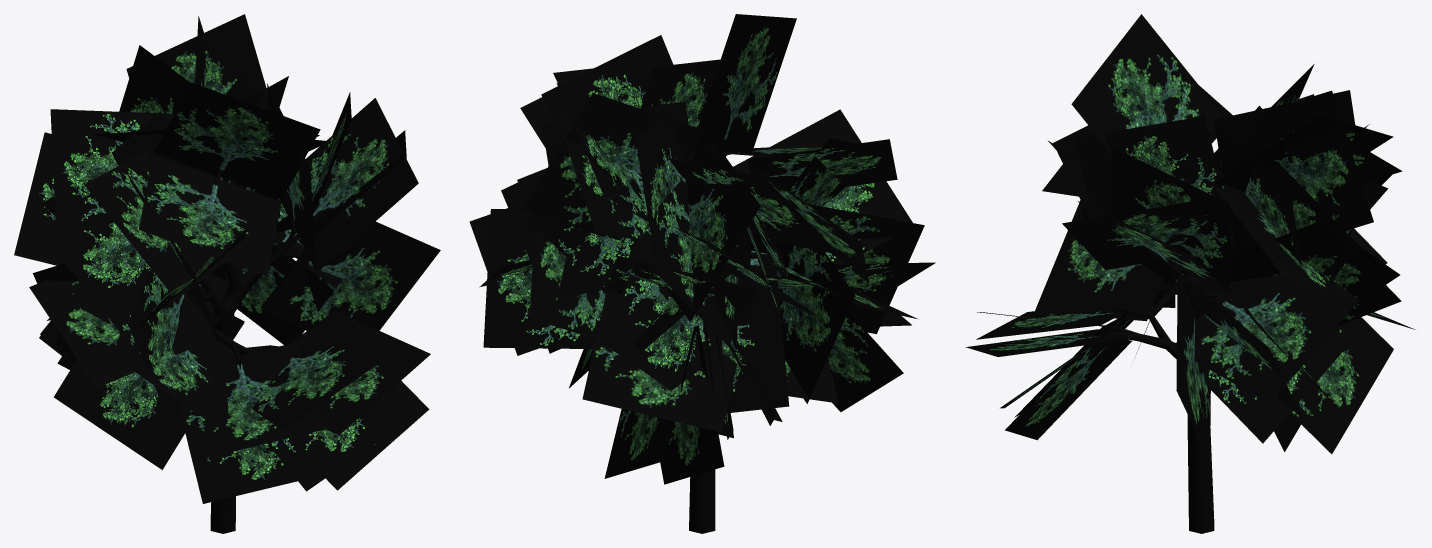
The model's file is tree72.glb.
3 renders of one model, left to right at view 1: azimuth 30°, elevation 25°; view 2: azimuth 150°, elevation 25°; view 3: azimuth 270°, elevation 25°, orthographic. The views are drawn at different scales.
Size of the model in its own units: 5.83 by 6.94 by 5.88.
2 materials, 1 textured.
